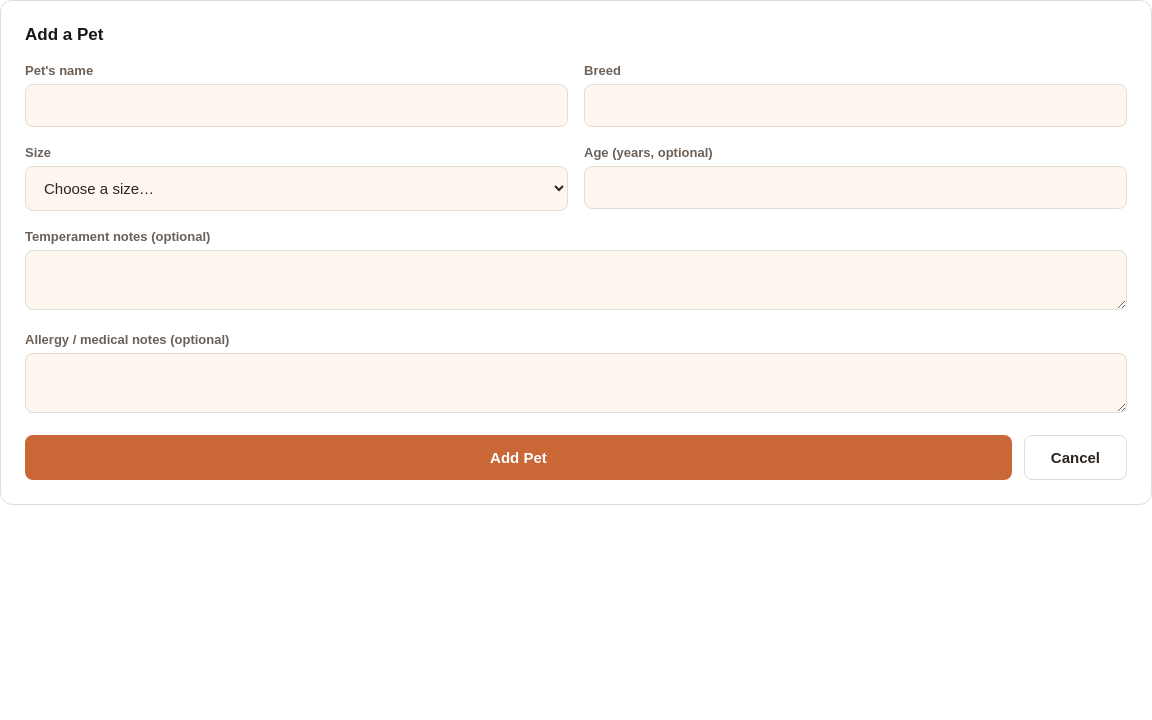
Test: PetForm — form validation › add mode: requires a size once name and breed are filled
The width and height of the screenshot is (1152, 720).
Type "Biscuit" into the field with test id "add-pet-form-name-input" at [296, 106], box [25,84,568,127]
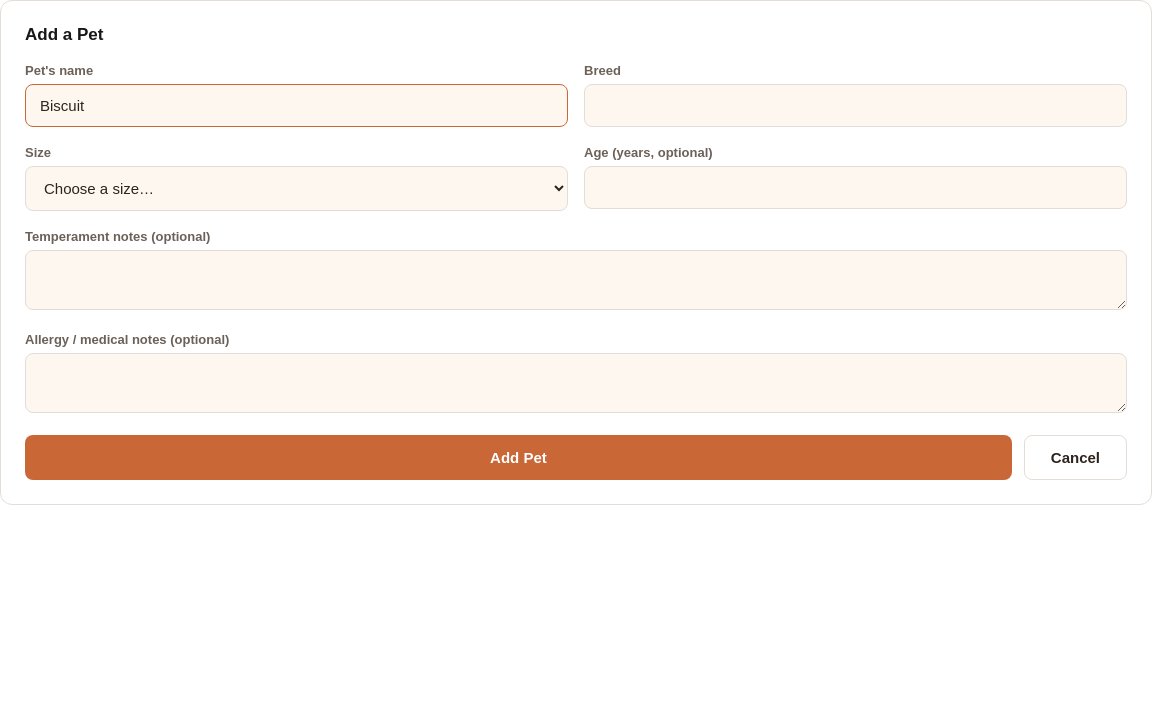
Type "Golden Retriever" into the field with test id "add-pet-form-breed-input" at [856, 106], box [584,84,1127,127]
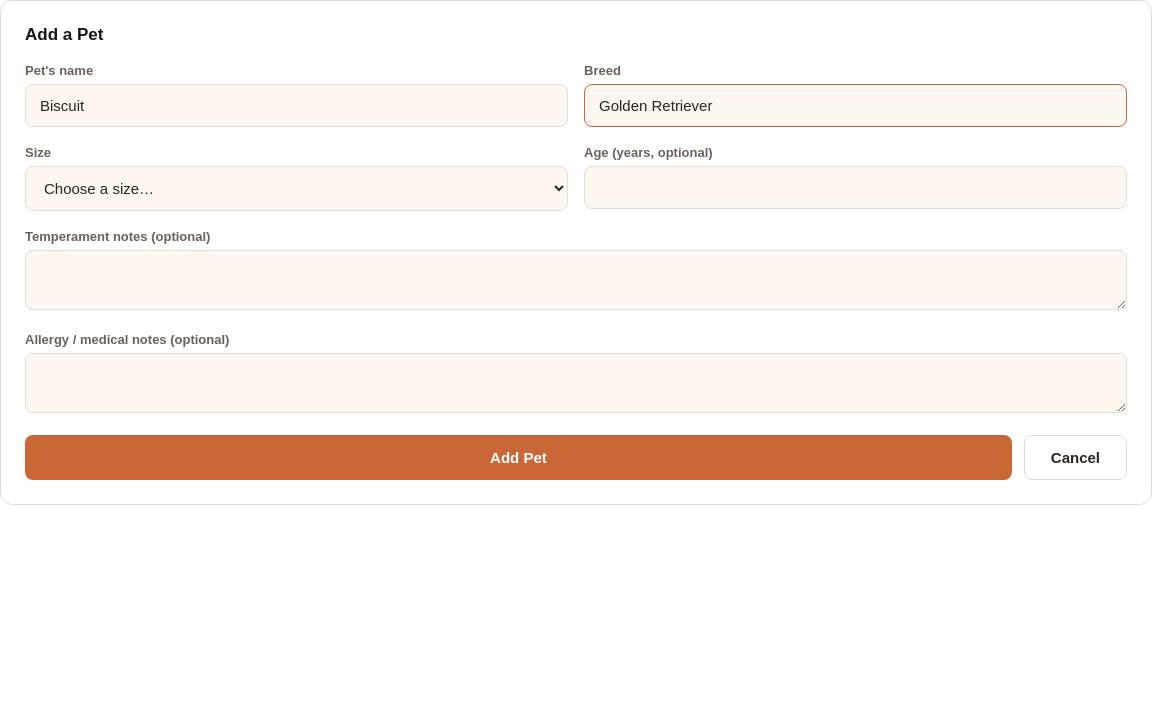
Click the button with test id "add-pet-form-save-button" at [518, 458], box [25,435,1012,480]
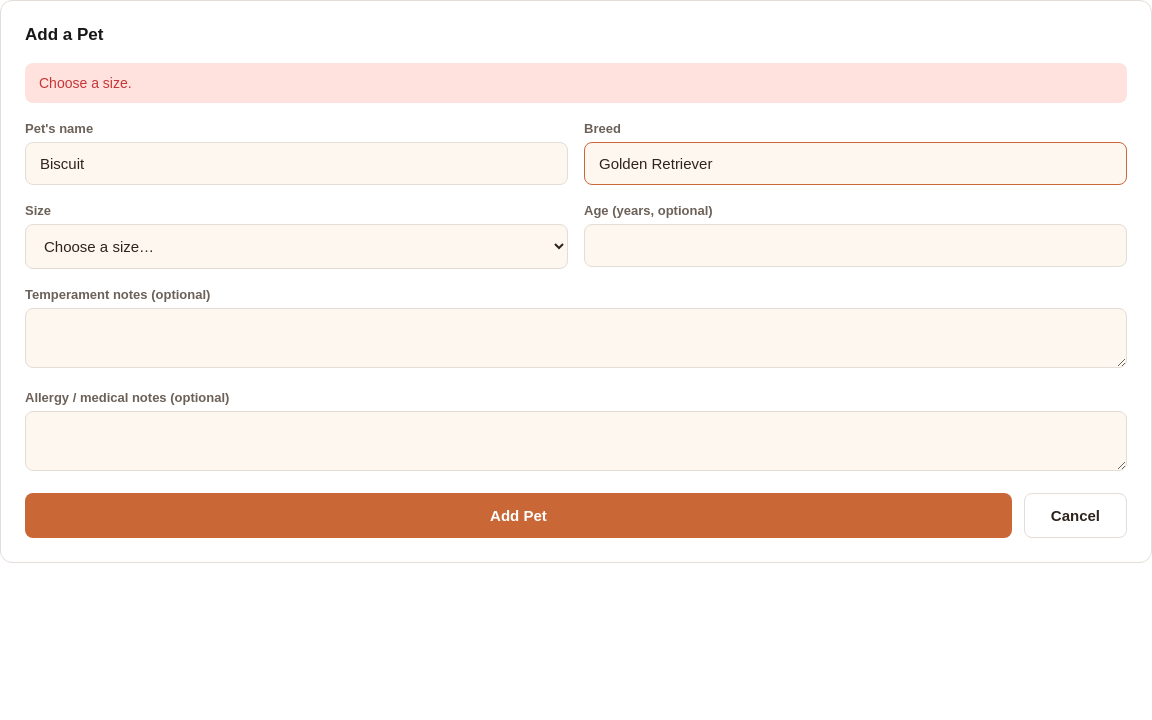
Result: the text with test id "add-pet-form-error" reads "Choose a size." at [39,75,132,91]
